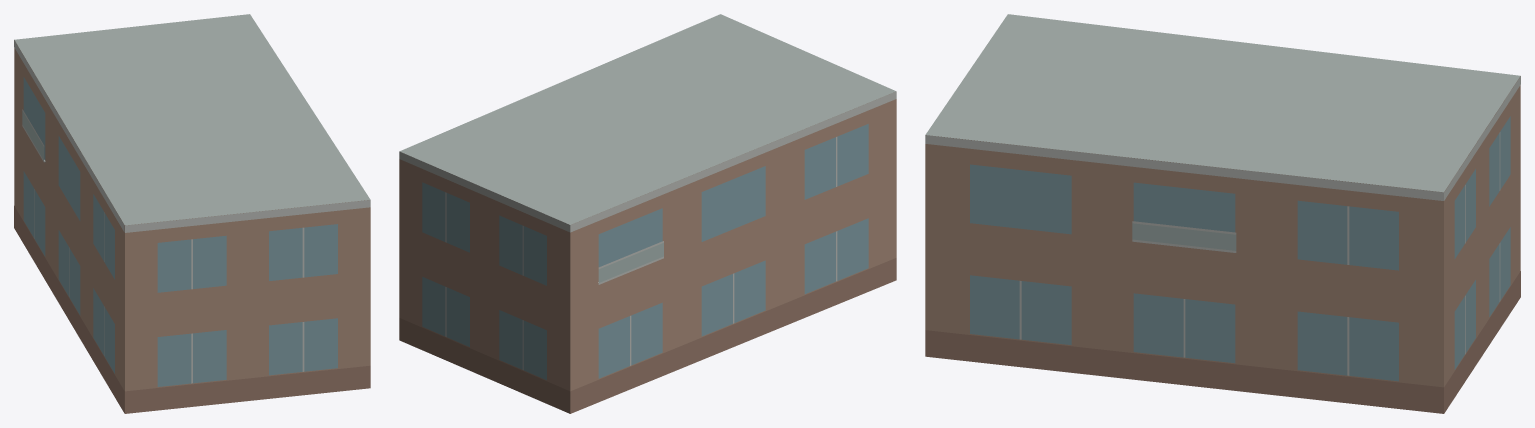
The model's file is survey-upis-32501204.glb.
The picture shows the model from 3 angles, left to right: view 1: azimuth 30°, elevation 25°; view 2: azimuth 150°, elevation 25°; view 3: azimuth 270°, elevation 25°; orthographic projection. The views are drawn at different scales.
Parts seen in each view (by area): view 1: survey-upis-32501204.tmp; view 2: survey-upis-32501204.tmp; view 3: survey-upis-32501204.tmp.
Part boxes in pixels (bbox=[...]): survey-upis-32501204.tmp: bbox=[14, 14, 370, 413]; survey-upis-32501204.tmp: bbox=[399, 14, 896, 413]; survey-upis-32501204.tmp: bbox=[925, 14, 1520, 413].
Size of the model in its own units: 10.53 by 6.1 by 14.87.
